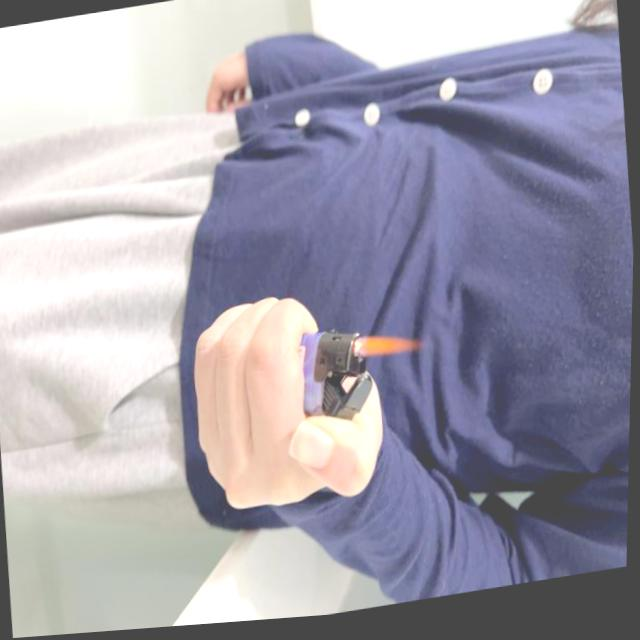helmet: (354, 329, 429, 369)
